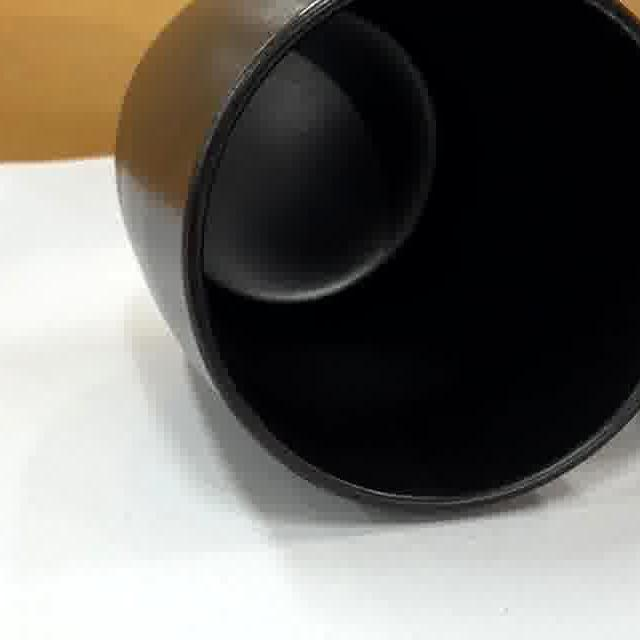cup: (183, 0, 640, 516)
